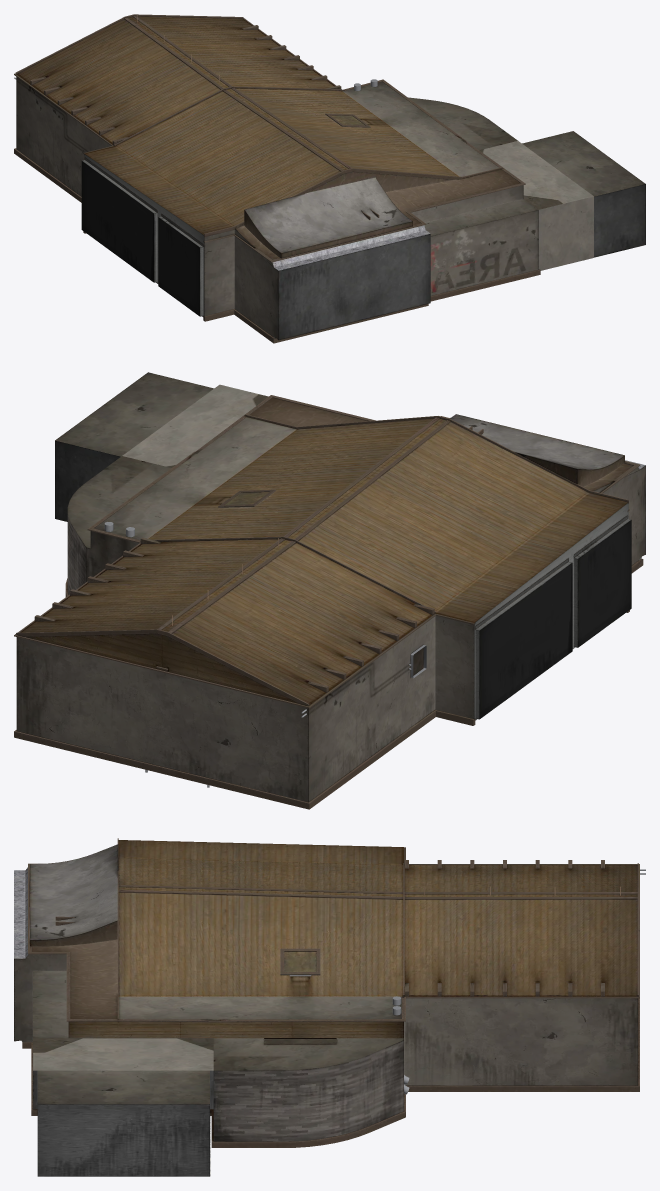
Rendered from mobile-garage.glb.
The picture shows the model from 3 angles, top to bottom: view 1: azimuth 30°, elevation 25°; view 2: azimuth 150°, elevation 25°; view 3: azimuth 270°, elevation 25°; orthographic projection. The views are drawn at different scales.
Visible parts, largest first — view 1: Object_5, Object_3, Object_4; view 2: Object_5, Object_3, Object_4; view 3: Object_5, Object_3, Object_4.
Part boxes in pixels (<box>): Object_5: <box>16,16,645,270</box>; Object_3: <box>16,76,645,340</box>; Object_4: <box>14,14,540,343</box>; Object_5: <box>20,372,645,705</box>; Object_3: <box>16,440,645,802</box>; Object_4: <box>14,395,643,809</box>; Object_5: <box>14,840,637,1104</box>; Object_3: <box>14,840,637,1176</box>; Object_4: <box>22,838,639,1147</box>.
Bounding box in the file's own units: 1555 × 456 × 1741.
Materials: 6 (6 with a texture image).
